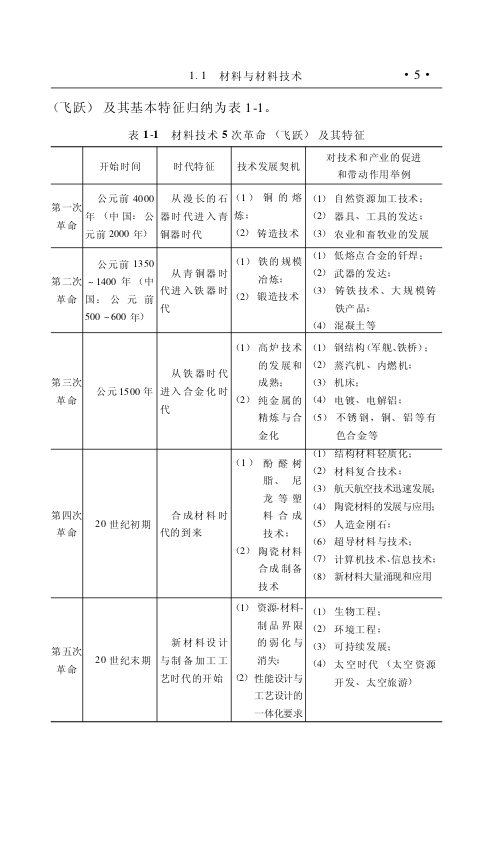table: (50, 146, 443, 722)
